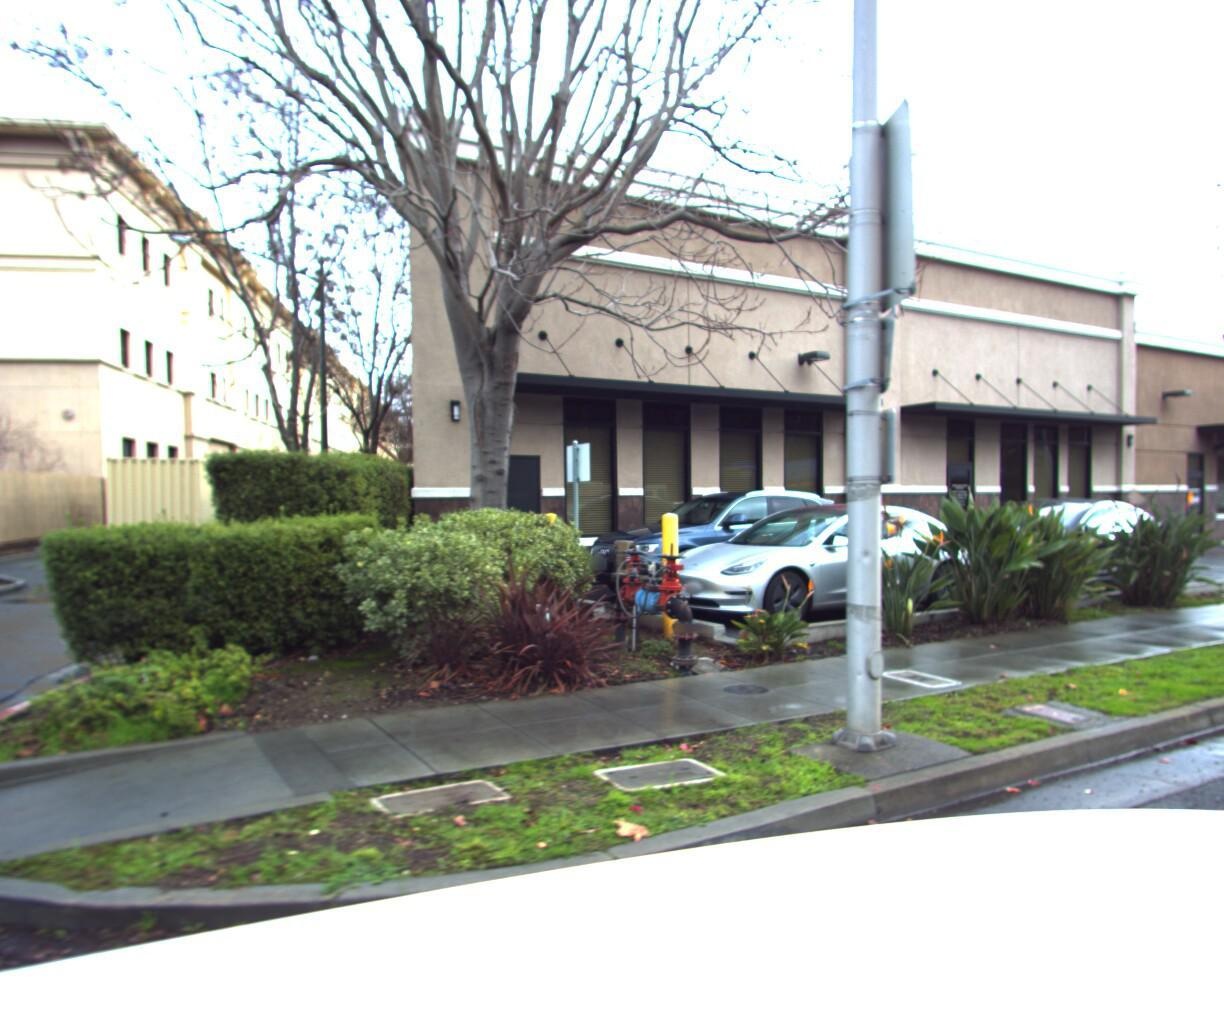car: (628, 495, 1007, 639), (567, 487, 882, 612), (902, 497, 1212, 612)
